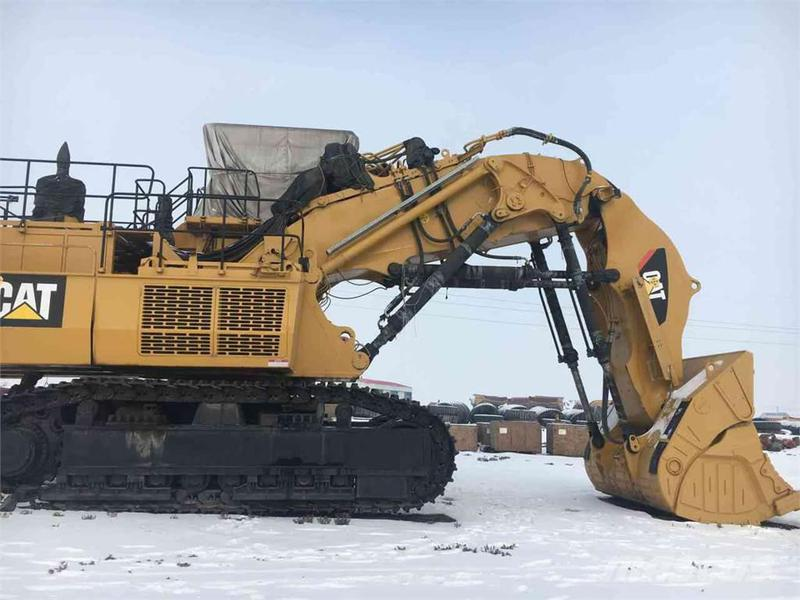shovel: (7, 117, 800, 534)
